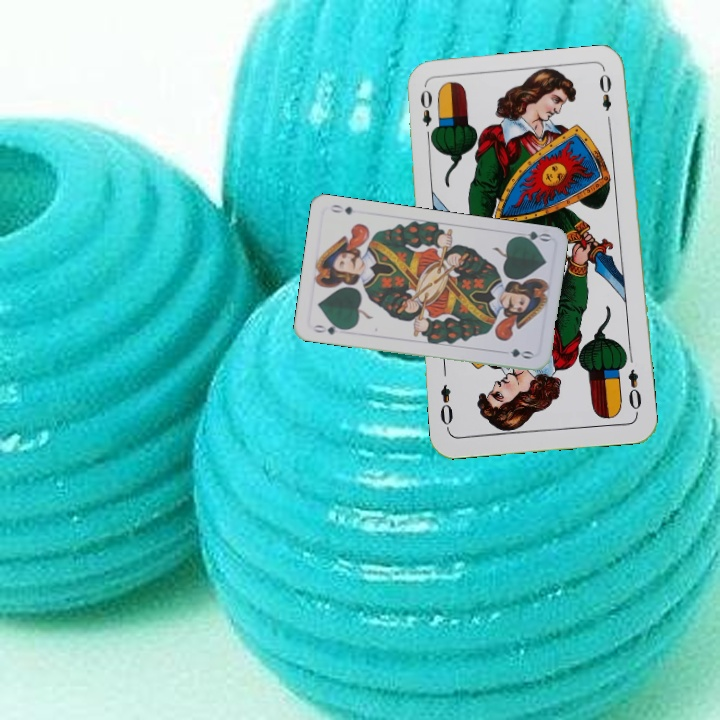EO: (416, 85, 438, 144), (624, 365, 644, 417)
GO: (511, 227, 553, 247), (308, 320, 349, 337)
